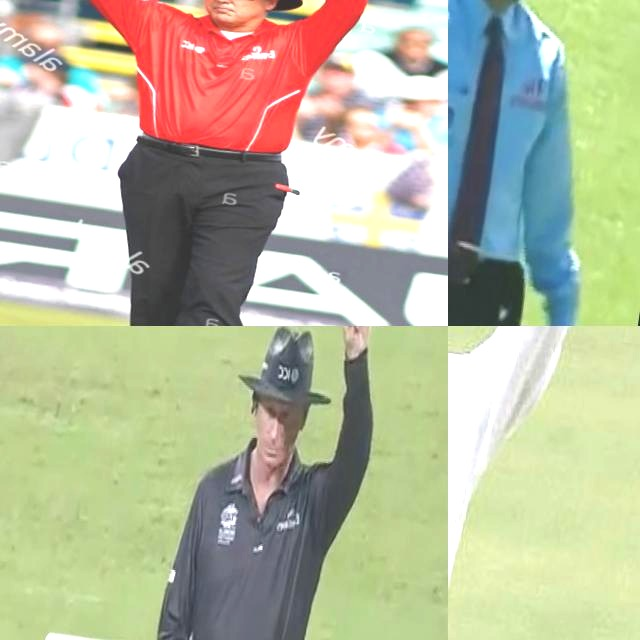No_Ball: (448, 0, 640, 326)
Out: (150, 326, 404, 640), (448, 326, 640, 640)
Six: (0, 0, 395, 326)
